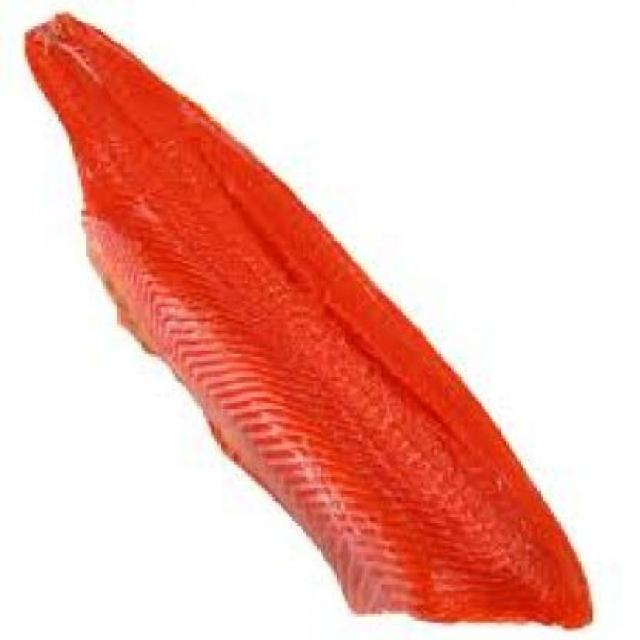salmon: (9, 14, 610, 639)
